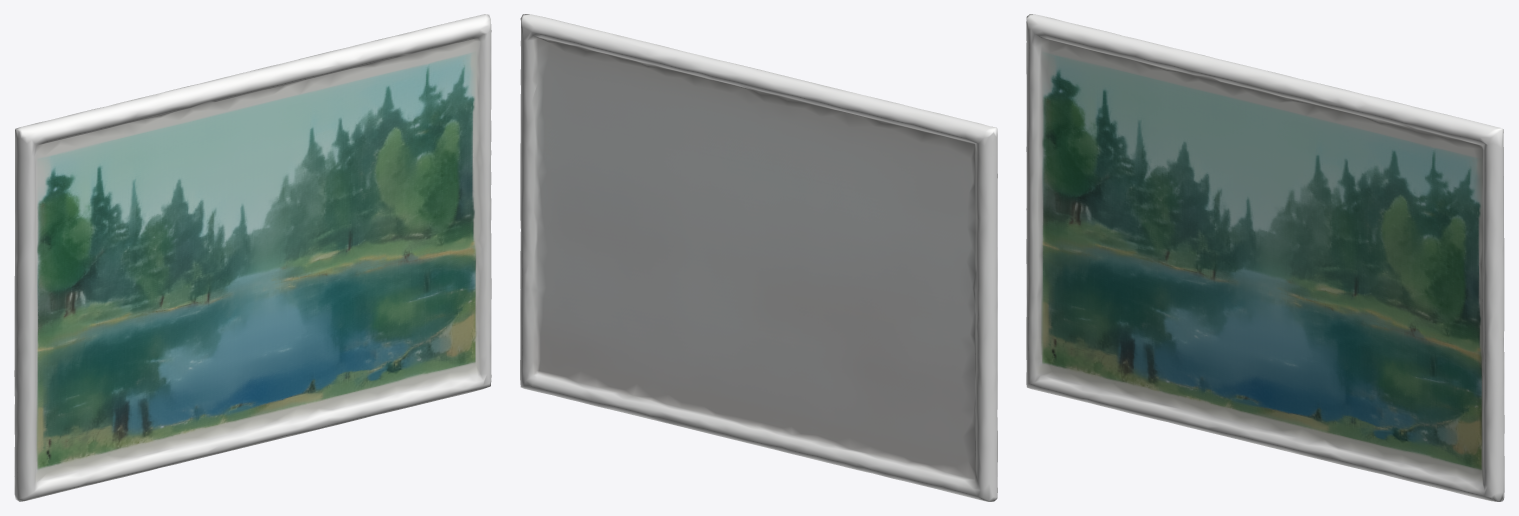
Rendered from extra_pictureLake.glb.
The picture shows the model from 3 angles, left to right: view 1: azimuth 30°, elevation 25°; view 2: azimuth 150°, elevation 25°; view 3: azimuth 330°, elevation 25°; orthographic projection.
Visible parts, largest first — view 1: world; view 2: world; view 3: world.
Part boxes in pixels (x1,y1,x2,y2): world: (14,14,491,501); world: (520,14,997,501); world: (1026,14,1504,501).
Size of the model in its own units: 1 by 0.7527 by 0.0473.
1 material, 1 textured.
